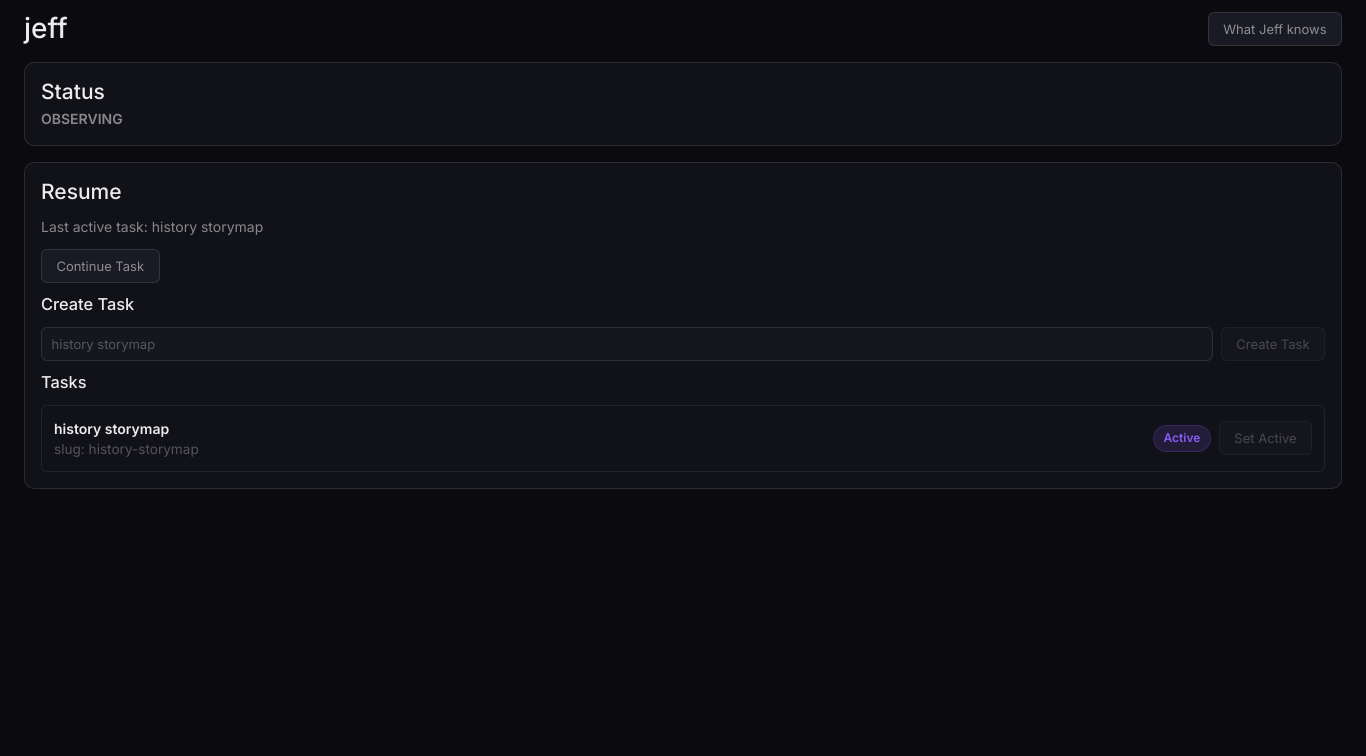
Test case: App › uses clarify path when classifier returns unknown intent
Expected: the element with test id "home-resume-screen" is shown, [24, 162, 1342, 489]
Click the button with test id "continue-task-button" at (100, 266), box [41, 249, 160, 283]
(page scrolled)
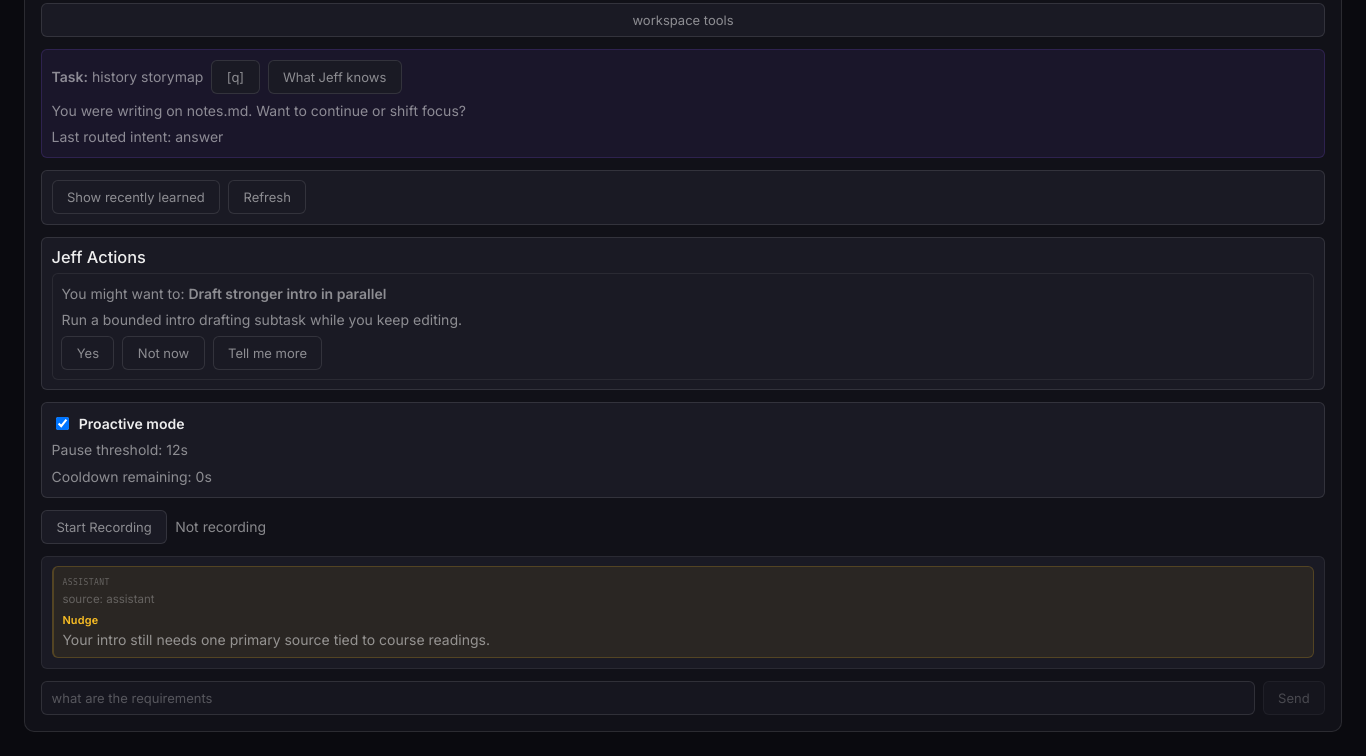
Type "ok" into the field named "chat input" at (648, 698), box [41, 681, 1255, 715]
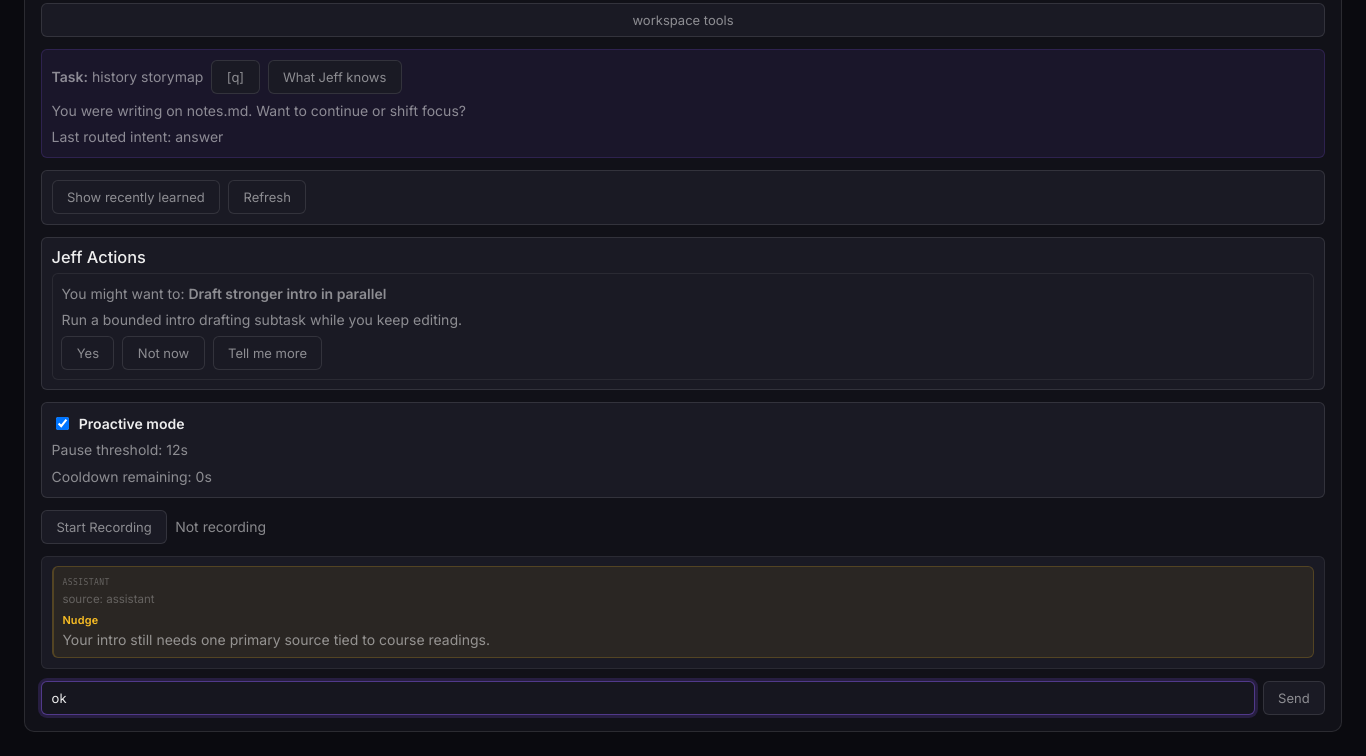
Click the button "Send" at (1294, 698), box [1263, 681, 1325, 715]
(page scrolled)
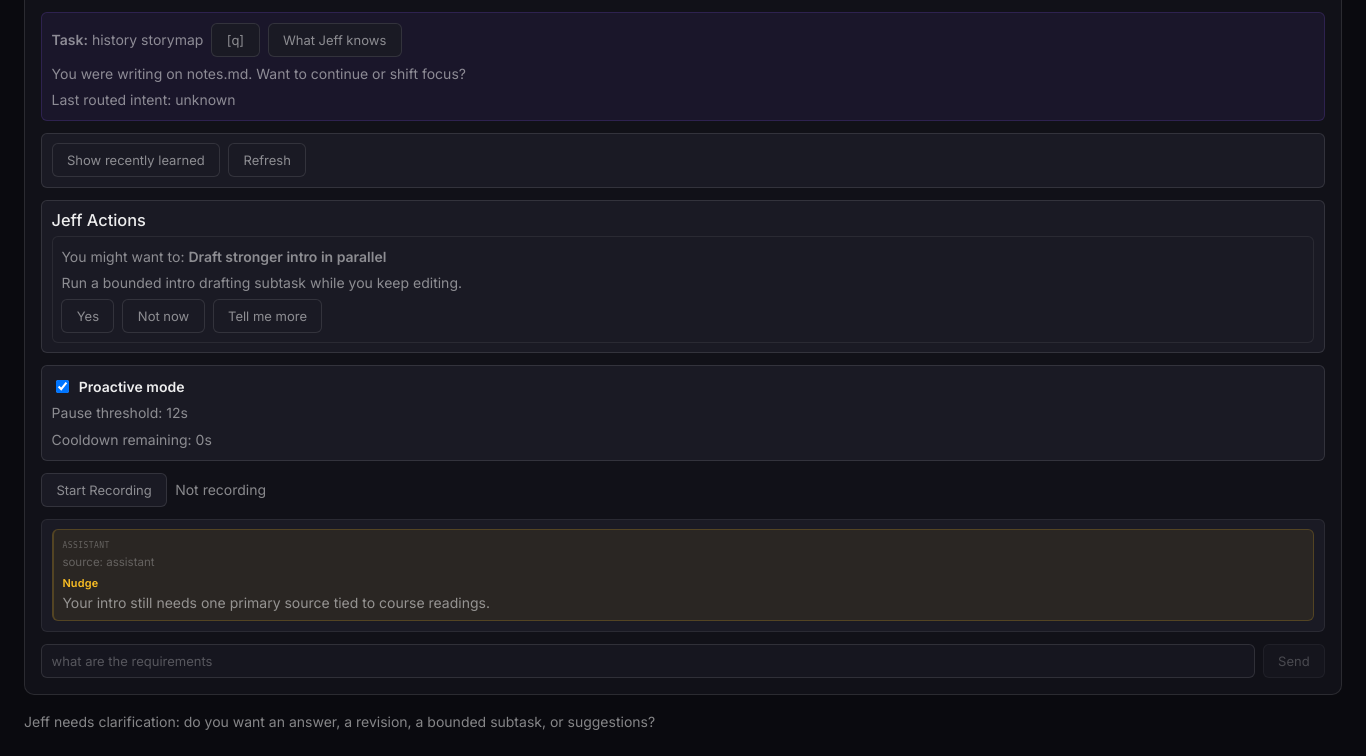
Expected: the message shows "Jeff needs clarification", [24, 713, 655, 730]
